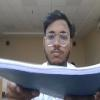notebook: (0, 55, 99, 98)
